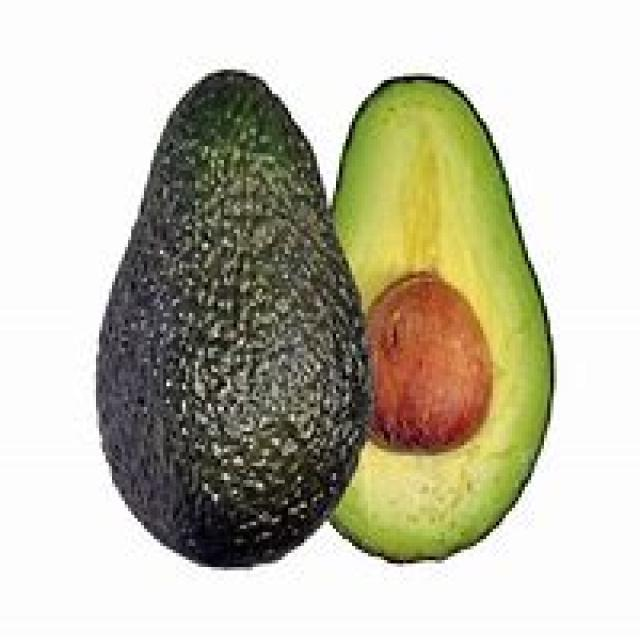avocado: (95, 75, 371, 565), (314, 72, 558, 572)
